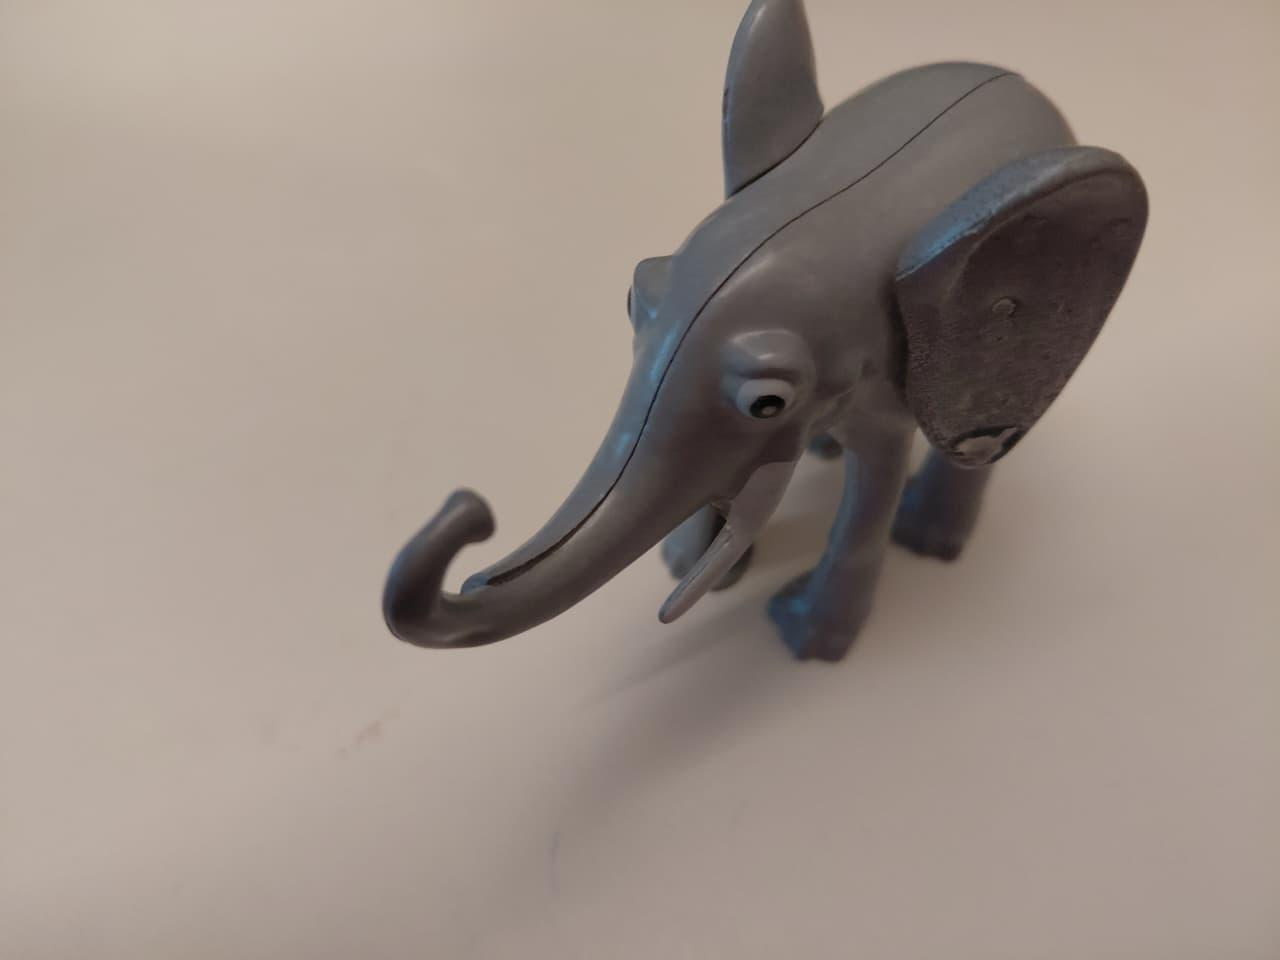elephant: (278, 2, 1240, 705)
